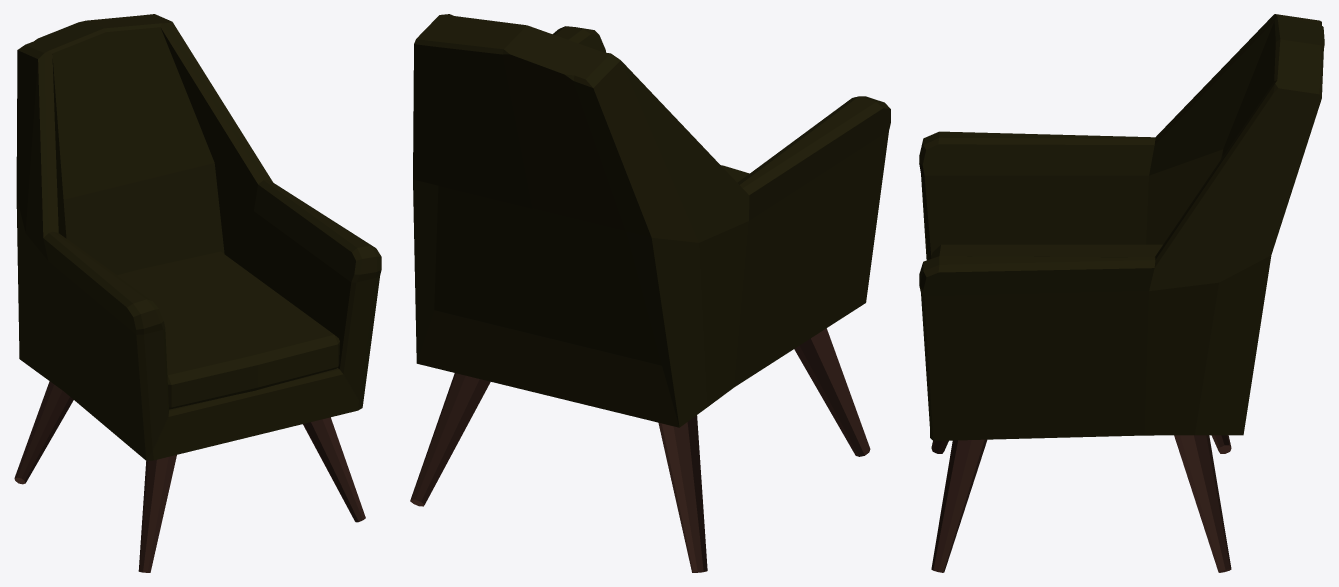
File: MinimalistModernChair1.obj
The picture shows the model from 3 angles, left to right: view 1: azimuth 30°, elevation 25°; view 2: azimuth 150°, elevation 25°; view 3: azimuth 270°, elevation 25°; orthographic projection. The views are drawn at different scales.
Parts seen in each view (by area): view 1: MinimalistModernChair1_Cube.005; view 2: MinimalistModernChair1_Cube.005; view 3: MinimalistModernChair1_Cube.005.
Part boxes in pixels (x1,y1,x2,y2): MinimalistModernChair1_Cube.005: (14,14,381,572); MinimalistModernChair1_Cube.005: (410,14,890,572); MinimalistModernChair1_Cube.005: (919,14,1324,572).
Size of the model in its own units: 0.7724 by 1.22 by 0.9476.
